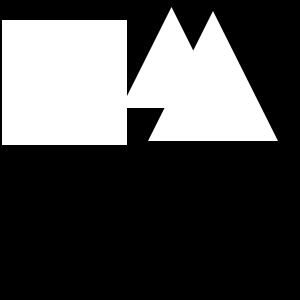circle: (2, 20, 127, 145)
triangle: (148, 11, 278, 141), (121, 7, 222, 108), (72, 89, 107, 124)
